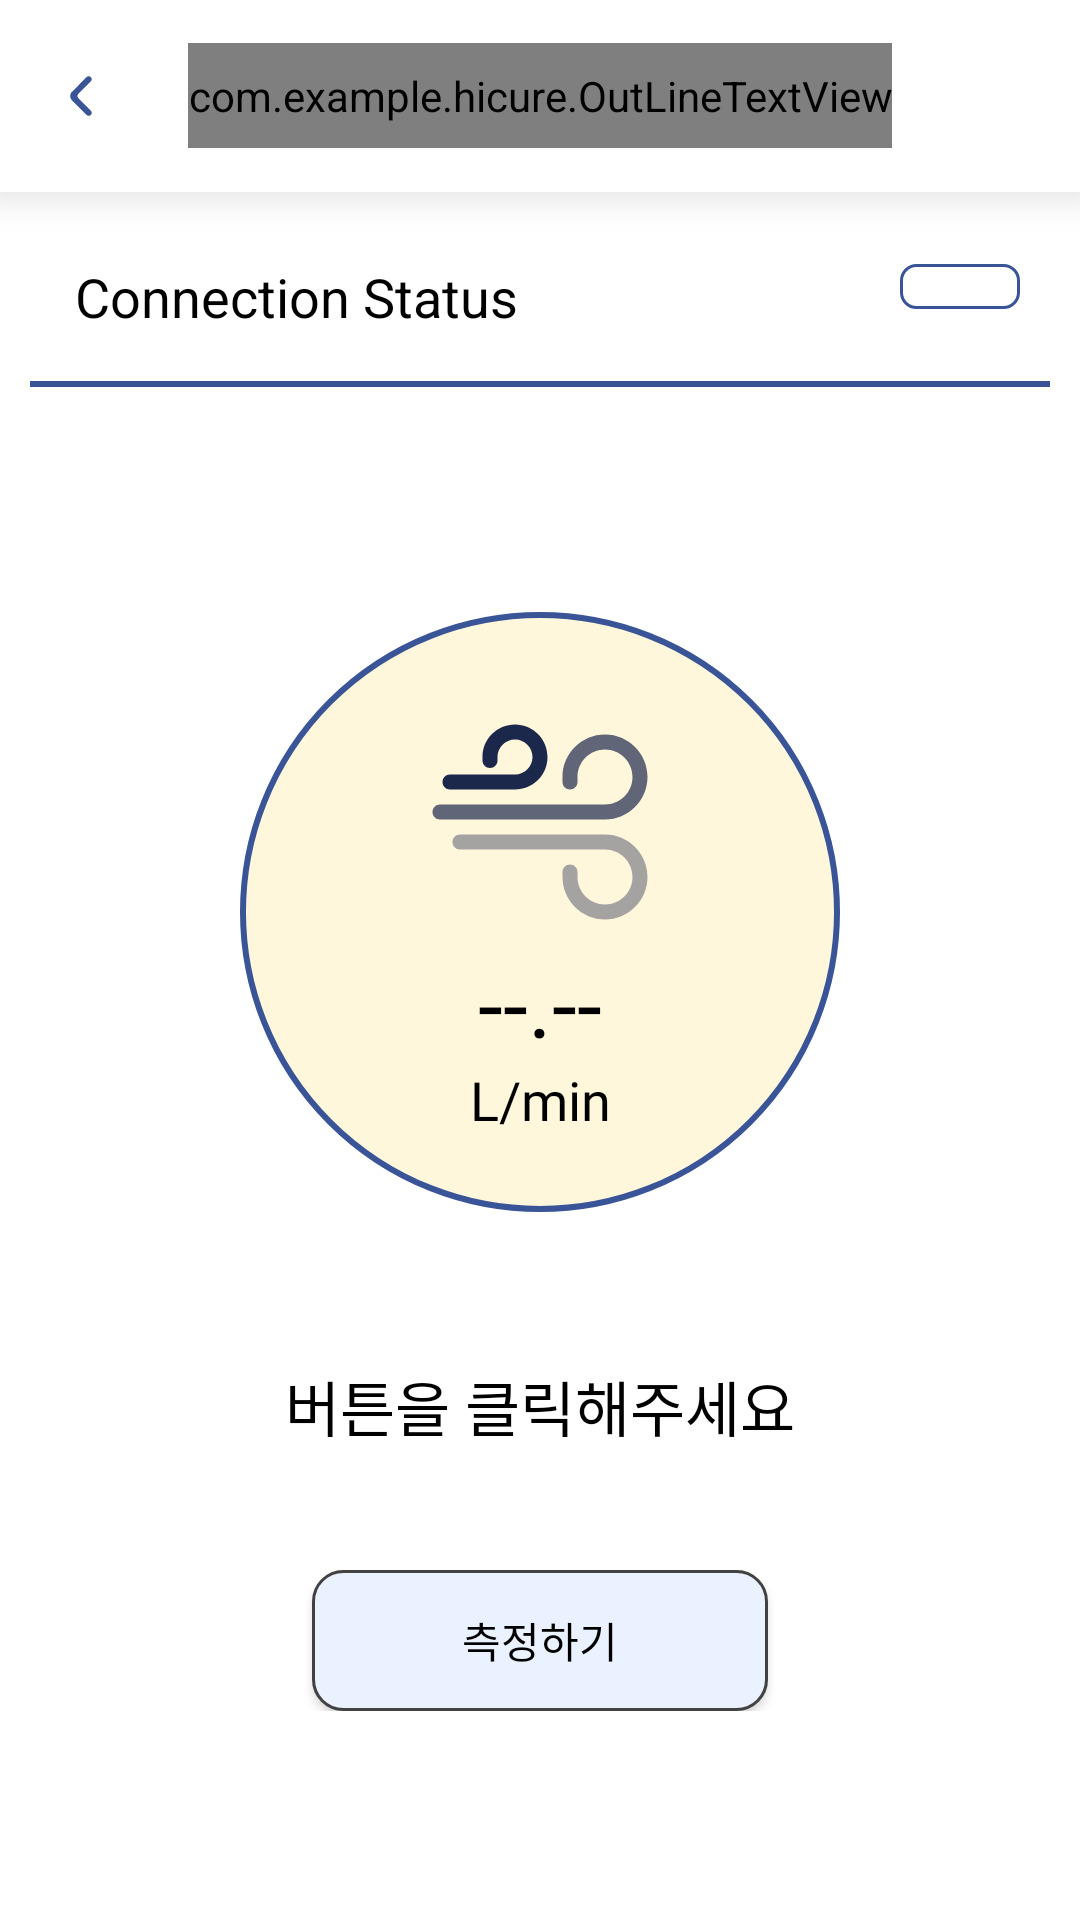

Icons on this 1080px×1920px Android screen, each with the point to tap as (x=x, y=y):
back: (x=81, y=96)
wind: (x=540, y=822)
